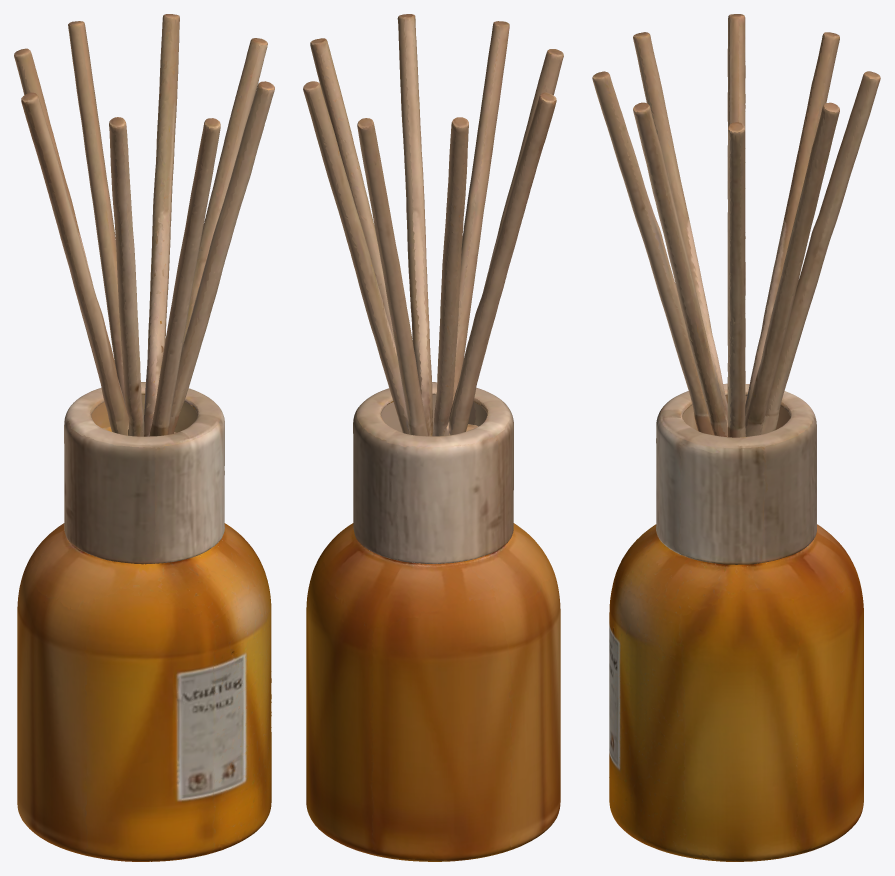
The model's file is diffuser-4969889.glb.
3 views of the same model, side by side, from view 1: azimuth 30°, elevation 25°; view 2: azimuth 150°, elevation 25°; view 3: azimuth 270°, elevation 25° (orthographic).
Parts seen in each view (by area): view 1: body, cap, reed_4, reed_3, reed_1, reed_2; view 2: body, reed_4, cap, reed_3, reed_1, reed_2; view 3: body, cap, reed_4, reed_3, reed_1, reed_2.
Boxes of the visible parts, x1,y1,x2,y2 form: body: (17, 523, 271, 861); cap: (64, 382, 224, 566); reed_4: (14, 14, 179, 436); reed_3: (168, 38, 274, 433); reed_1: (149, 118, 220, 436); reed_2: (109, 117, 144, 436); body: (306, 523, 560, 861); reed_4: (303, 81, 556, 436); cap: (353, 382, 513, 566); reed_3: (310, 14, 432, 436); reed_1: (452, 21, 509, 405); reed_2: (452, 49, 563, 407); body: (609, 524, 863, 861); cap: (656, 383, 816, 567); reed_4: (714, 14, 880, 437); reed_3: (633, 102, 746, 437); reed_1: (592, 71, 713, 435); reed_2: (633, 32, 727, 406).
Bounding box in the file's own units: 0.3428 × 1 × 0.3515.
6 materials, 6 textured.
